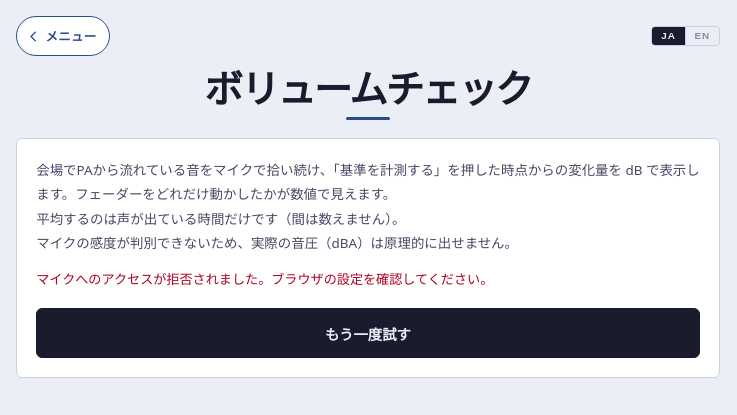
シェル — 言語切替 › 言語は機能の中身にも伝わる（ボリュームチェックのエラー）
This screenshot has width=737, height=415.
Expected: the text "マイクへのアクセスが拒否されました。ブラウザの設定を確認してください。" is shown, [36, 270, 493, 288]
Click the button "EN": (702, 36) [686, 27, 719, 46]
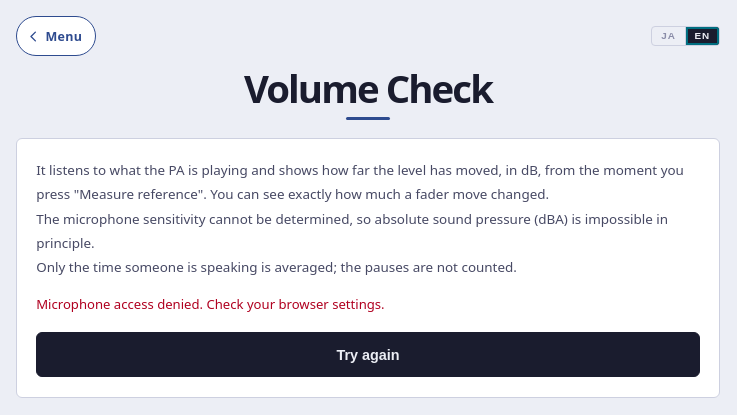
Expected: the text "Microphone access denied. Check your browser settings." is shown, [36, 294, 385, 312]
